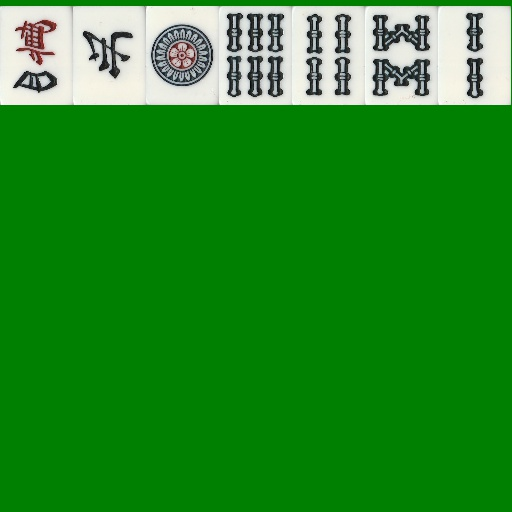1p: (146, 6, 219, 105)
2s: (438, 6, 511, 105)
4m: (0, 6, 73, 105)
4s: (292, 6, 365, 105)
6s: (219, 6, 292, 105)
8s: (365, 6, 438, 105)
north: (73, 6, 146, 105)
